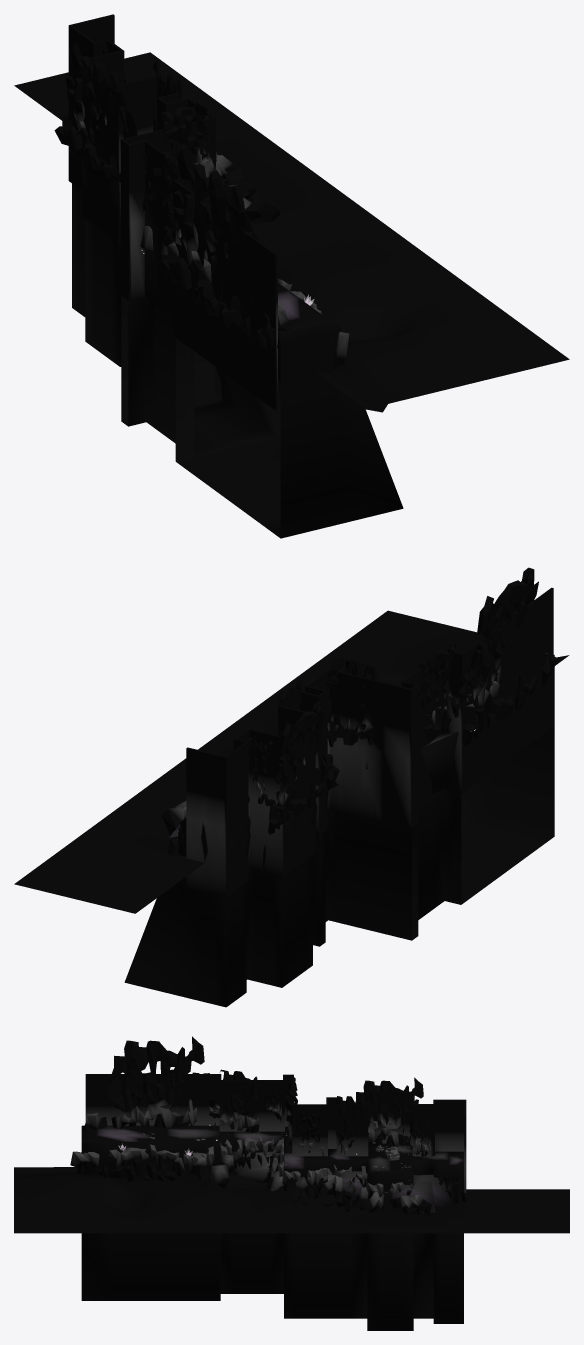
File: Level1.glb
The picture shows the model from 3 angles, top to bottom: view 1: azimuth 30°, elevation 25°; view 2: azimuth 150°, elevation 25°; view 3: azimuth 270°, elevation 25°; orthographic projection. The views are drawn at different scales.
Parts seen in each view (by area): view 1: Clean_Bounds_CSGBox3D32-col, Plane, Clean_Bounds_CSGBox3D142-col, CliffGenerator, CliffGenerator.007, CliffGenerator.006, CliffGenerator.015, CliffGenerator.001; view 2: Clean_Bounds_CSGBox3D32-col, Clean_Bounds_CSGBox3D142-col, Plane, CliffGenerator, CliffGenerator.007, CliffGenerator.006, CliffGenerator.005, Cube.014, CliffGenerator.010, CliffGenerator.004; view 3: Clean_Bounds_CSGBox3D32-col, Plane, Clean_Bounds_CSGBox3D142-col, CliffGenerator, CliffGenerator.001, CliffGenerator.015, CliffGenerator.007, CliffGenerator.005, CliffGenerator.008, CliffGenerator.012, CliffGenerator.011, Cube.014 (+10 smaller).
Part boxes in pixels (<box>): Clean_Bounds_CSGBox3D32-col: <box>69,120,403,538</box>; Plane: <box>14,52,569,412</box>; Clean_Bounds_CSGBox3D142-col: <box>68,14,277,410</box>; CliffGenerator: <box>157,145,290,351</box>; CliffGenerator.007: <box>54,42,137,182</box>; CliffGenerator.006: <box>161,101,213,177</box>; CliffGenerator.015: <box>216,152,279,224</box>; CliffGenerator.001: <box>278,279,349,369</box>; Clean_Bounds_CSGBox3D32-col: <box>124,655,554,1007</box>; Clean_Bounds_CSGBox3D142-col: <box>186,587,553,896</box>; Plane: <box>14,610,569,913</box>; CliffGenerator: <box>462,567,557,745</box>; CliffGenerator.007: <box>268,701,339,834</box>; CliffGenerator.006: <box>327,657,378,745</box>; CliffGenerator.005: <box>418,642,456,743</box>; Cube.014: <box>374,732,458,822</box>; CliffGenerator.010: <box>252,735,275,806</box>; CliffGenerator.004: <box>444,668,474,717</box>; Clean_Bounds_CSGBox3D32-col: <box>81,1125,463,1330</box>; Plane: <box>14,1167,569,1233</box>; Clean_Bounds_CSGBox3D142-col: <box>85,1074,466,1193</box>; CliffGenerator: <box>82,1036,215,1129</box>; CliffGenerator.001: <box>70,1144,214,1181</box>; CliffGenerator.015: <box>287,1174,431,1215</box>; CliffGenerator.007: <box>355,1077,423,1145</box>; CliffGenerator.005: <box>218,1069,259,1132</box>; CliffGenerator.008: <box>318,1093,370,1156</box>; CliffGenerator.012: <box>282,1164,367,1200</box>; CliffGenerator.011: <box>220,1136,283,1176</box>; Cube.014: <box>232,1151,279,1182</box>.
Bounding box in the file's own units: 114 × 138 × 314.
10 materials, 7 textured.
